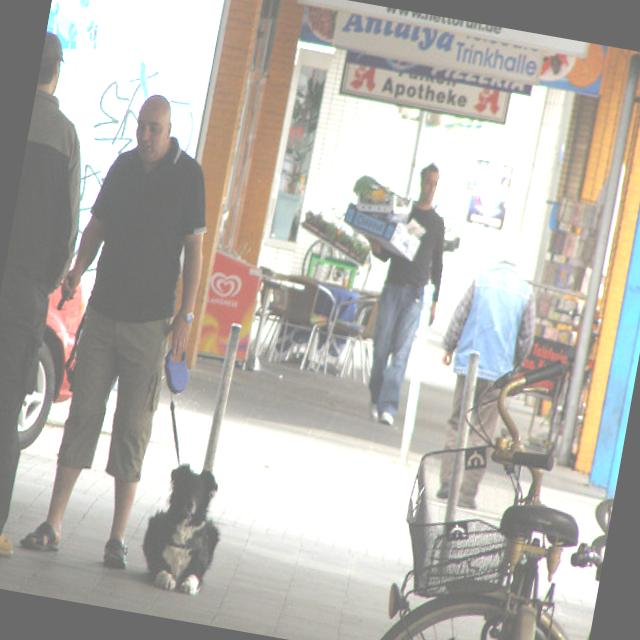Vehicle: (11, 269, 90, 457)
